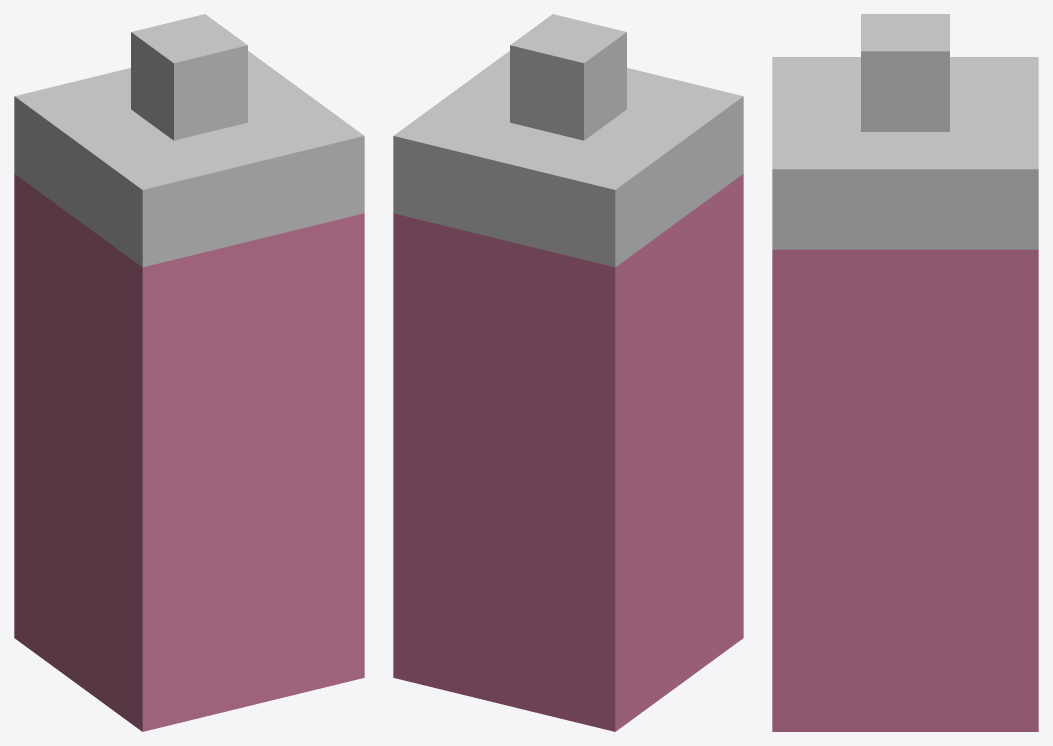
The model's file is bombe_peinture.glb.
The picture shows the model from 3 angles, left to right: view 1: azimuth 30°, elevation 25°; view 2: azimuth 150°, elevation 25°; view 3: azimuth 270°, elevation 25°; orthographic projection. The views are drawn at different scales.
Visible parts, largest first — view 1: main; view 2: main; view 3: main.
Part boxes in pixels (bbox=[...]): main: bbox=[14, 14, 364, 731]; main: bbox=[393, 14, 743, 731]; main: bbox=[772, 14, 1038, 731].
Size of the model in its own units: 0.1875 by 0.5 by 0.1875.
